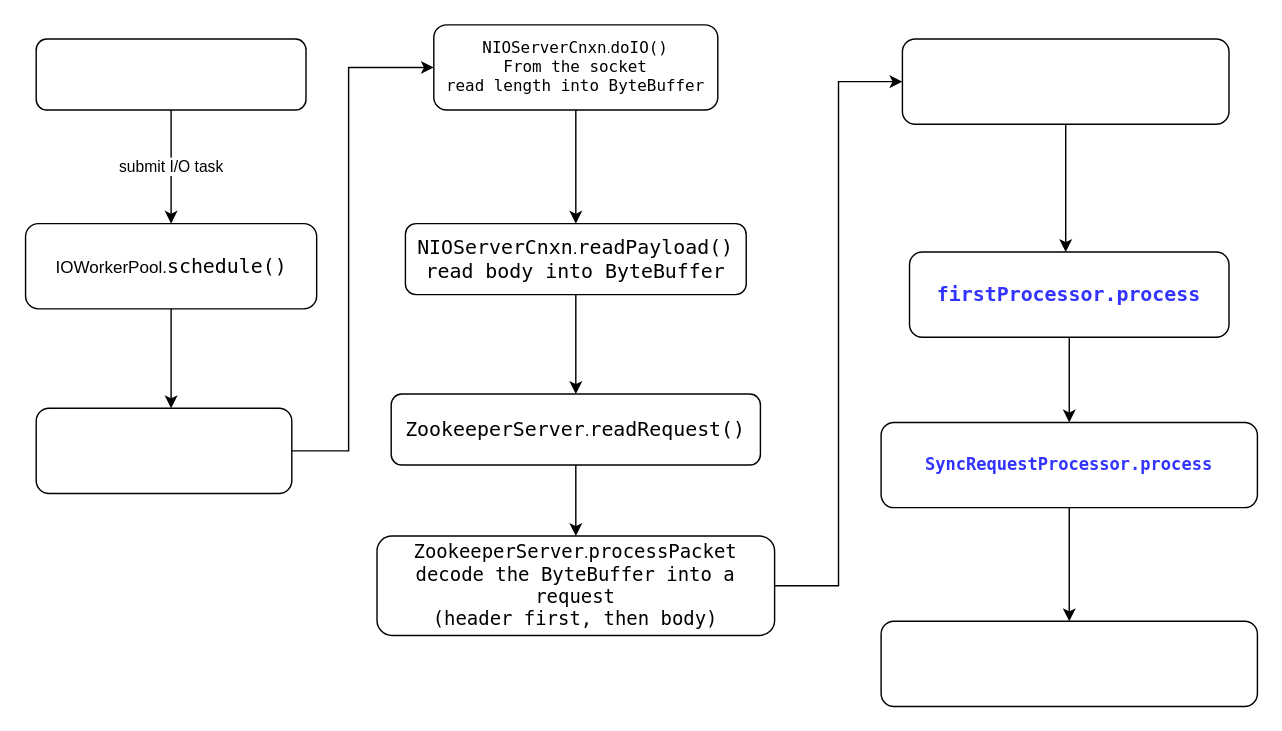
Image size: 1282x731. Some labels were removed from this diagram. The box of each missing label's shape, as (x1, y1, x2, y2) in pixels:
FinalRequestProcessor.process: (880, 620, 1257, 706)
IOWorkRequest.doWork(): (35, 407, 292, 493)
requestThrottler.process: (901, 38, 1229, 124)
SelectorThread.handleIO() gets the read-ready SelectionKey: (35, 38, 306, 110)
